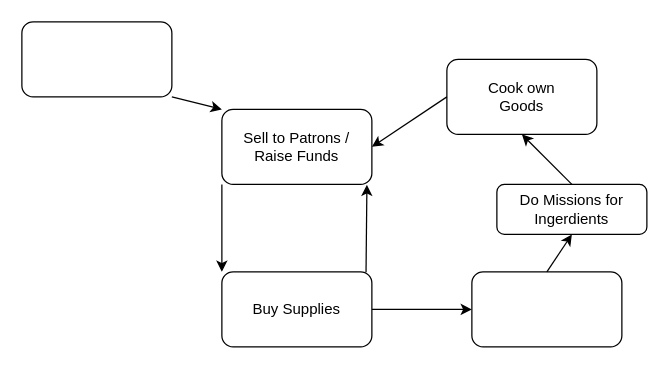
Some shapes in this 669 by 369 pixel diagram are drawn without their labels. The shapes that lost their labels are listed below. From the top down, each one's centre as x and y in pixels, then its label:
At pixel 96 59: "Starting Food & Drink".
At pixel 546 309: "Unlock Kitchen/ Upgrades".
